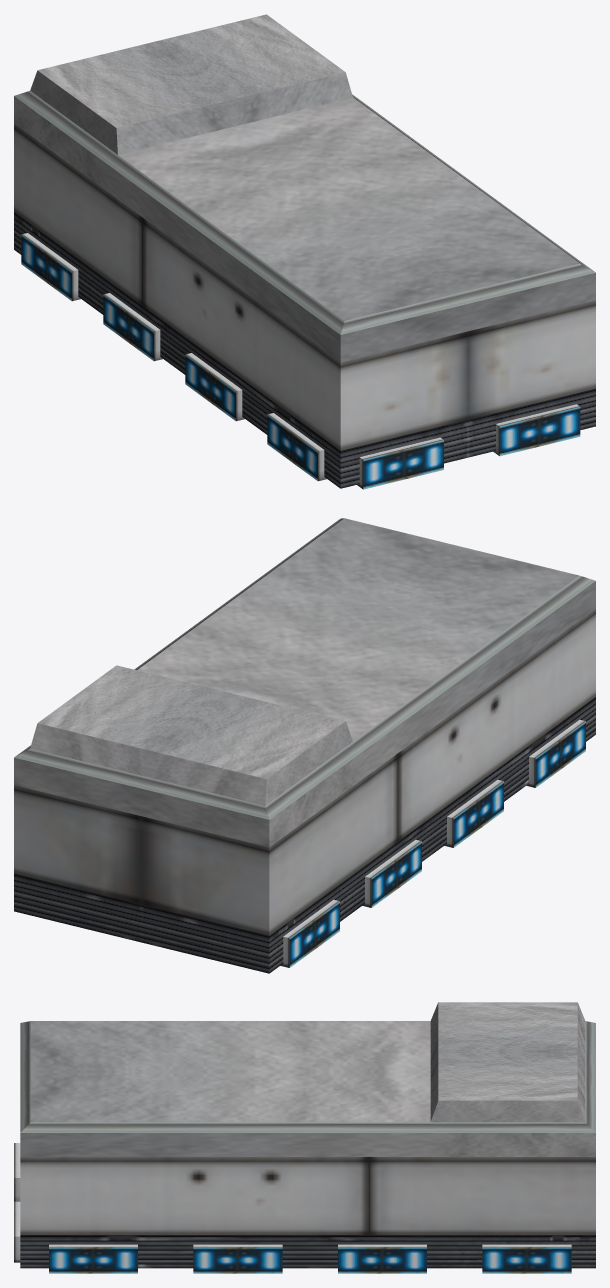
Rendered from camasci1.fbx.
3 renders of one model, top to bottom at view 1: azimuth 30°, elevation 25°; view 2: azimuth 150°, elevation 25°; view 3: azimuth 270°, elevation 25°, orthographic. The views are drawn at different scales.
Parts seen in each view (by area): view 1: Cylinder; view 2: Cylinder; view 3: Cylinder.
Part boxes in pixels (x1,y1,x2,y2): Cylinder: [14, 14, 595, 489]; Cylinder: [14, 518, 595, 973]; Cylinder: [14, 1002, 595, 1273].
Size of the model in its own units: 0.9215 by 0.6131 by 1.96.
